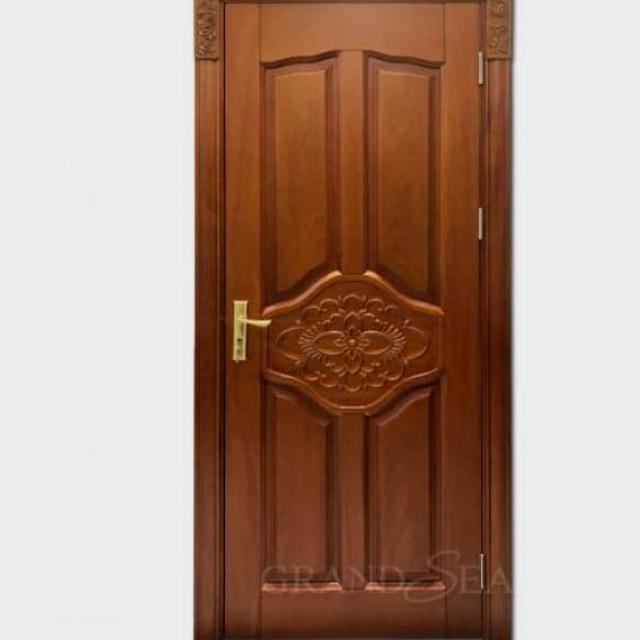door: (192, 0, 514, 639)
